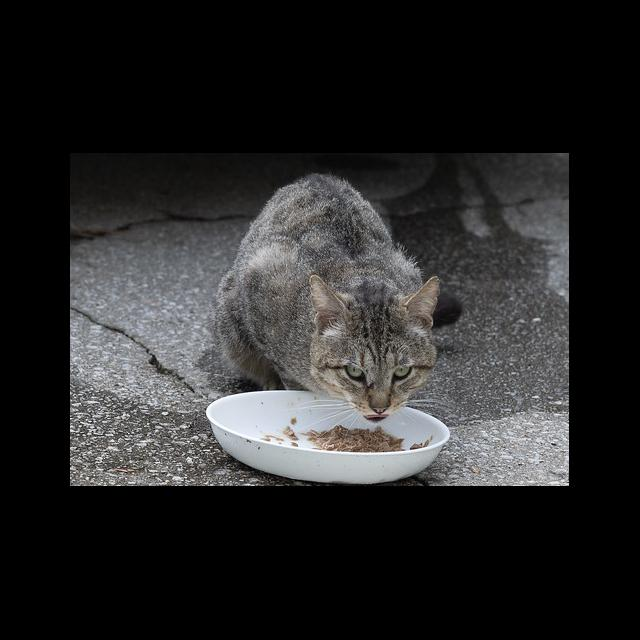animals: (214, 173, 464, 423)
